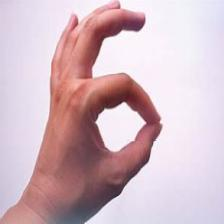five: (44, 1, 165, 212)
